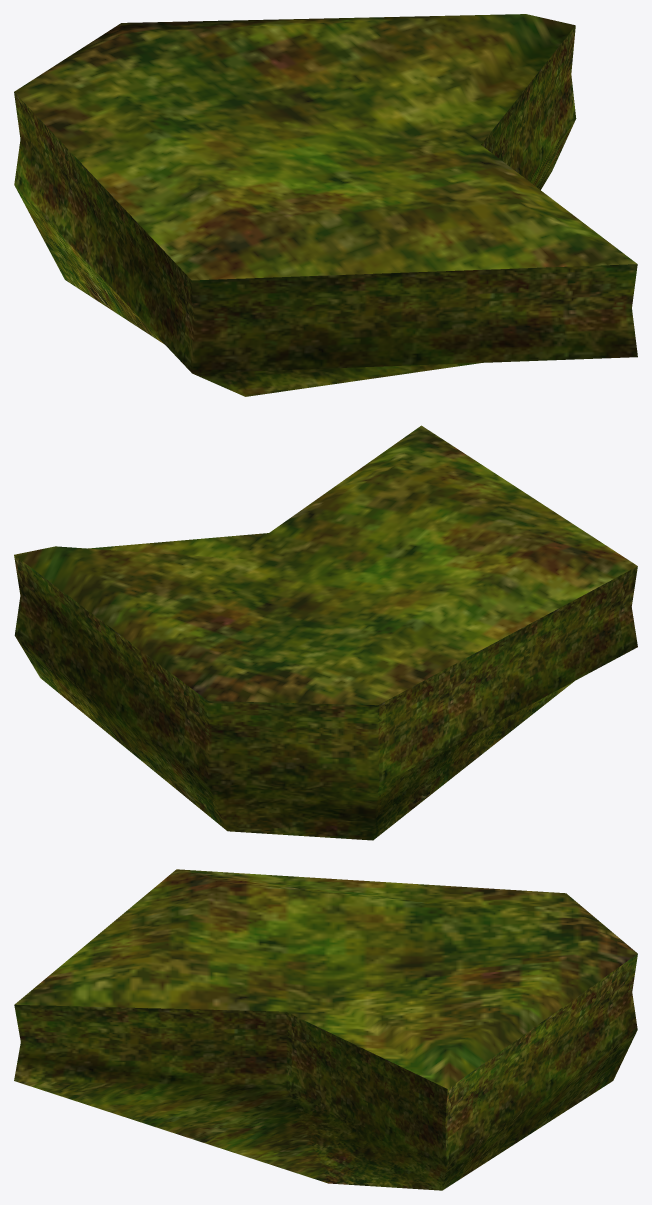
Rendered from TROLLHOLE02_RM_FALL_ROCK01.fbx.
3 views of the same model, one above another, from view 1: azimuth 30°, elevation 25°; view 2: azimuth 150°, elevation 25°; view 3: azimuth 270°, elevation 25° (orthographic). The views are drawn at different scales.
Parts seen in each view (by area): view 1: TROLLHOLE02_RM_FALL_ROCK01; view 2: TROLLHOLE02_RM_FALL_ROCK01; view 3: TROLLHOLE02_RM_FALL_ROCK01.
Boxes of the visible parts, bbox=[...] form: TROLLHOLE02_RM_FALL_ROCK01: bbox=[14, 14, 637, 396]; TROLLHOLE02_RM_FALL_ROCK01: bbox=[14, 425, 637, 840]; TROLLHOLE02_RM_FALL_ROCK01: bbox=[14, 869, 637, 1190].
Bounding box in the file's own units: 18559 × 7521 × 22266.
Materials: 1 (1 with a texture image).
